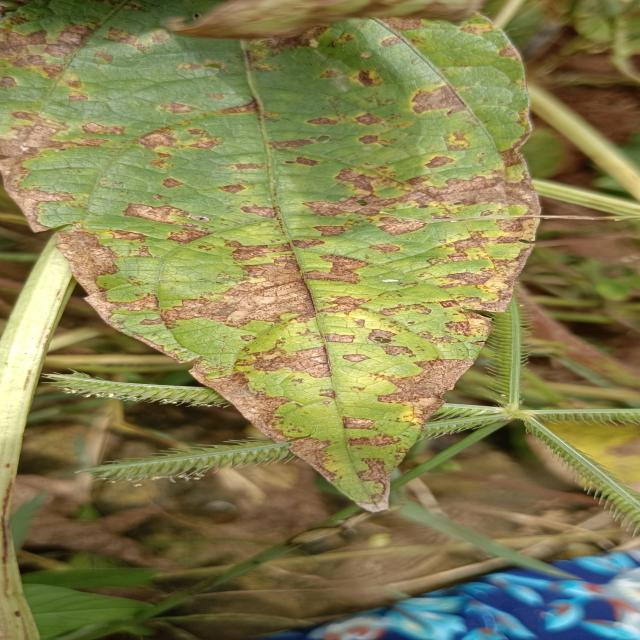Black gram_leaf spot: (0, 0, 543, 521)
